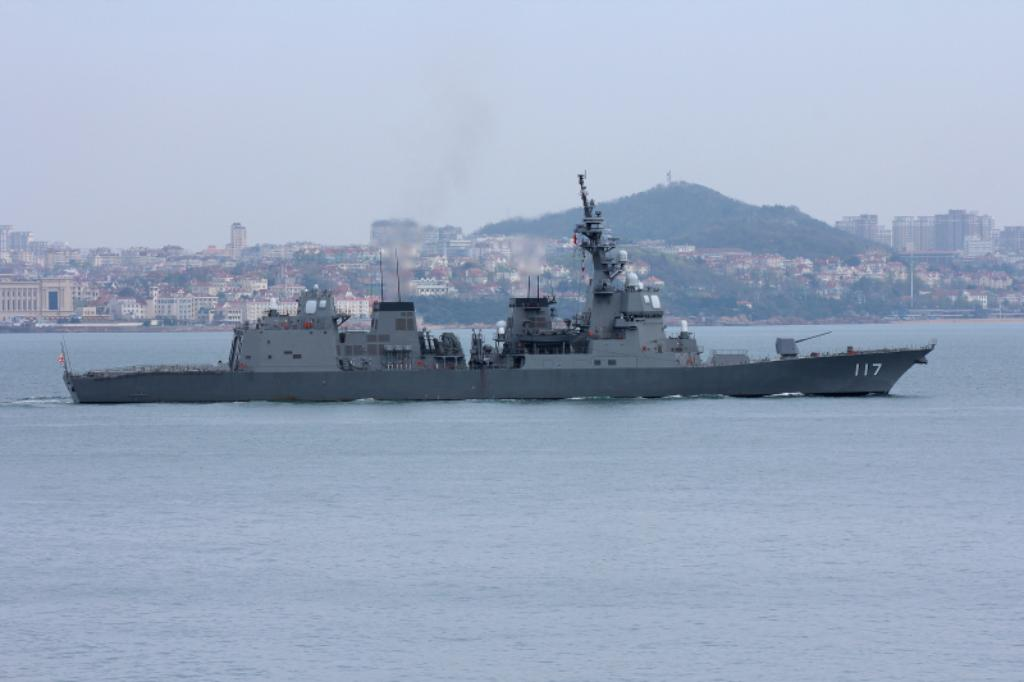Warship: (54, 159, 934, 409)
